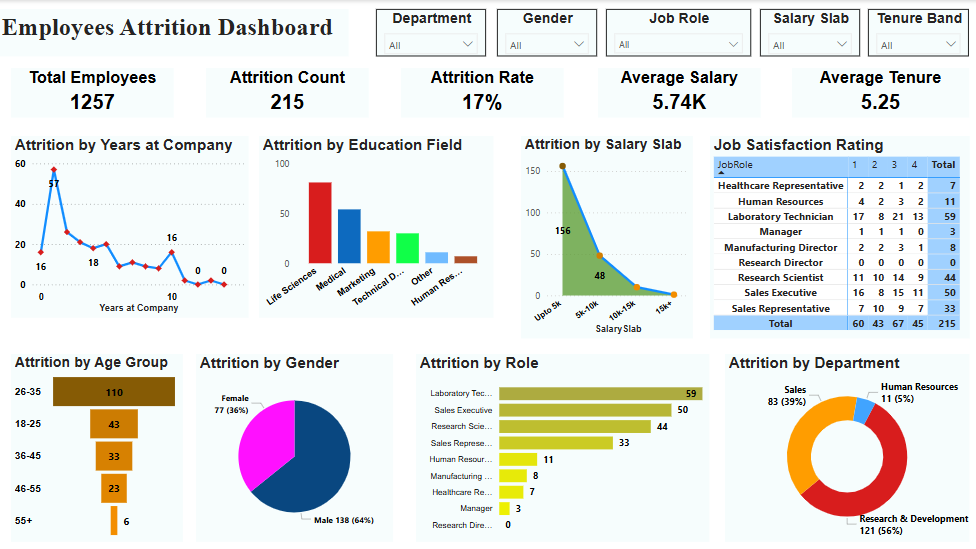

What the dashboard file says about the page in this screenshot:
{"tool":"powerbi","page":{"name":"Page 1","canvas":[1280,720],"ordinal":0},"visuals":[{"type":"textbox","box":[0,11.5,459.4,61.9],"z":0},{"type":"slicer","title":"Department","fields":{"Values":["hrattrition.Department"]},"box":[495.4,11.5,144,61.9],"z":1000},{"type":"slicer","title":"Gender","fields":{"Values":["hrattrition.Gender"]},"box":[653.8,11.5,131,61.9],"z":2000},{"type":"slicer","title":"Job Role","fields":{"Values":["hrattrition.JobRole"]},"box":[796.3,11.5,190.1,61.9],"z":3000},{"type":"slicer","title":"Salary Slab","fields":{"Values":["hrattrition.SalarySlab"]},"box":[997.9,11.5,131,61.9],"z":4000},{"type":"slicer","title":"Tenure Band","fields":{"Values":["hrattrition.YearsAtCompany"]},"box":[1139,11.5,132.5,61.9],"z":5000},{"type":"card","title":"Total Employees","fields":{"Values":["Sum(hrattrition.EmployeeCount)"]},"box":[17.3,89.3,213.1,64.8],"z":6000},{"type":"card","title":"Attrition Rate","fields":{"Values":["hrattrition.AttritionRate"]},"box":[527,89.3,213.1,64.8],"z":7000},{"type":"card","title":"Attrition Count","fields":{"Values":["Sum(hrattrition.Attritioncount)"]},"box":[272.2,89.3,213.1,64.8],"z":8000},{"type":"pieChart","title":"Attrition by Gender","fields":{"Category":["hrattrition.Gender"],"Y":["Sum(hrattrition.Attritioncount)"]},"box":[259.2,463.7,257.8,246.2],"z":9000},{"type":"donutChart","title":"Attrition by Department","fields":{"Y":["Sum(hrattrition.Attritioncount)"],"Category":["hrattrition.Department"]},"box":[951.8,463.7,319.7,246.2],"z":10000},{"type":"clusteredBarChart","title":"Attrition by Role","fields":{"Y":["Sum(hrattrition.Attritioncount)"],"Category":["hrattrition.JobRole"]},"box":[547.2,463.7,384.5,246.2],"z":11000},{"type":"lineChart","title":"Attrition by Years at Company","fields":{"Y":["Sum(hrattrition.Attritioncount)"],"Category":["hrattrition.YearsAtCompany"]},"box":[17.3,178.6,311,237.6],"z":12000},{"type":"pivotTable","title":"Job Satisfaction Rating","fields":{"Values":["Sum(hrattrition.Attritioncount)"],"Rows":["hrattrition.JobRole"],"Columns":["hrattrition.JobSatisfaction"]},"box":[931.7,178.6,339.8,265],"z":13000},{"type":"columnChart","title":"Attrition by Education Field","fields":{"Category":["hrattrition.EducationField"],"Y":["Sum(hrattrition.Attritioncount)"]},"box":[341.3,178.6,306.7,237.6],"z":14000},{"type":"funnel","title":"Attrition by Age Group","fields":{"Category":["hrattrition.AgeGroup"],"Y":["Sum(hrattrition.Attritioncount)"]},"box":[17.3,463.7,224.6,246.2],"z":15000},{"type":"stackedAreaChart","title":"Attrition by Salary Slab","fields":{"Category":["hrattrition.SalarySlab"],"Y":["Sum(hrattrition.Attritioncount)"]},"box":[684,178.6,224.6,265],"z":16000},{"type":"card","title":"Average Salary","fields":{"Values":["Avg(hrattrition.MonthlyIncome)"]},"box":[784.8,89.3,213.1,64.8],"z":17000},{"type":"card","title":"Average Tenure","fields":{"Values":["Avg(hrattrition.YearsAtCompany)"]},"box":[1039.7,89.3,231.8,64.8],"z":18000}]}

Visuals, with their boxes in screenshot pixels (x1, y1, x2, y2), scaled from the page's 1280x720 canvas onto the 976x549 screenshot:
textbox: <region>0, 9, 350, 56</region>
"Department" slicer: <region>378, 9, 488, 56</region>
"Gender" slicer: <region>499, 9, 598, 56</region>
"Job Role" slicer: <region>607, 9, 752, 56</region>
"Salary Slab" slicer: <region>761, 9, 861, 56</region>
"Tenure Band" slicer: <region>868, 9, 970, 56</region>
"Total Employees" card: <region>13, 68, 176, 118</region>
"Attrition Rate" card: <region>402, 68, 564, 118</region>
"Attrition Count" card: <region>208, 68, 370, 118</region>
"Attrition by Gender" pieChart: <region>198, 354, 394, 541</region>
"Attrition by Department" donutChart: <region>726, 354, 970, 541</region>
"Attrition by Role" clusteredBarChart: <region>417, 354, 710, 541</region>
"Attrition by Years at Company" lineChart: <region>13, 136, 250, 317</region>
"Job Satisfaction Rating" pivotTable: <region>710, 136, 970, 338</region>
"Attrition by Education Field" columnChart: <region>260, 136, 494, 317</region>
"Attrition by Age Group" funnel: <region>13, 354, 184, 541</region>
"Attrition by Salary Slab" stackedAreaChart: <region>522, 136, 693, 338</region>
"Average Salary" card: <region>598, 68, 761, 118</region>
"Average Tenure" card: <region>793, 68, 970, 118</region>
